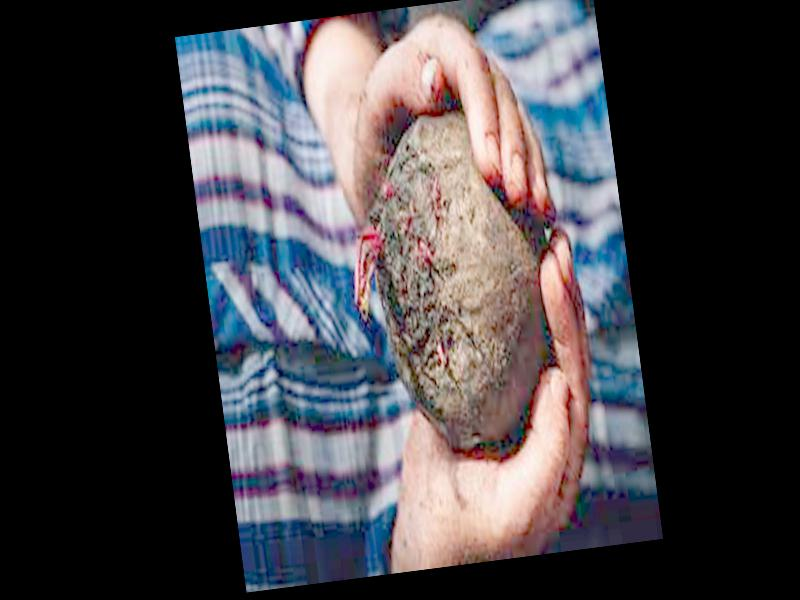Beet: (331, 103, 564, 465)
